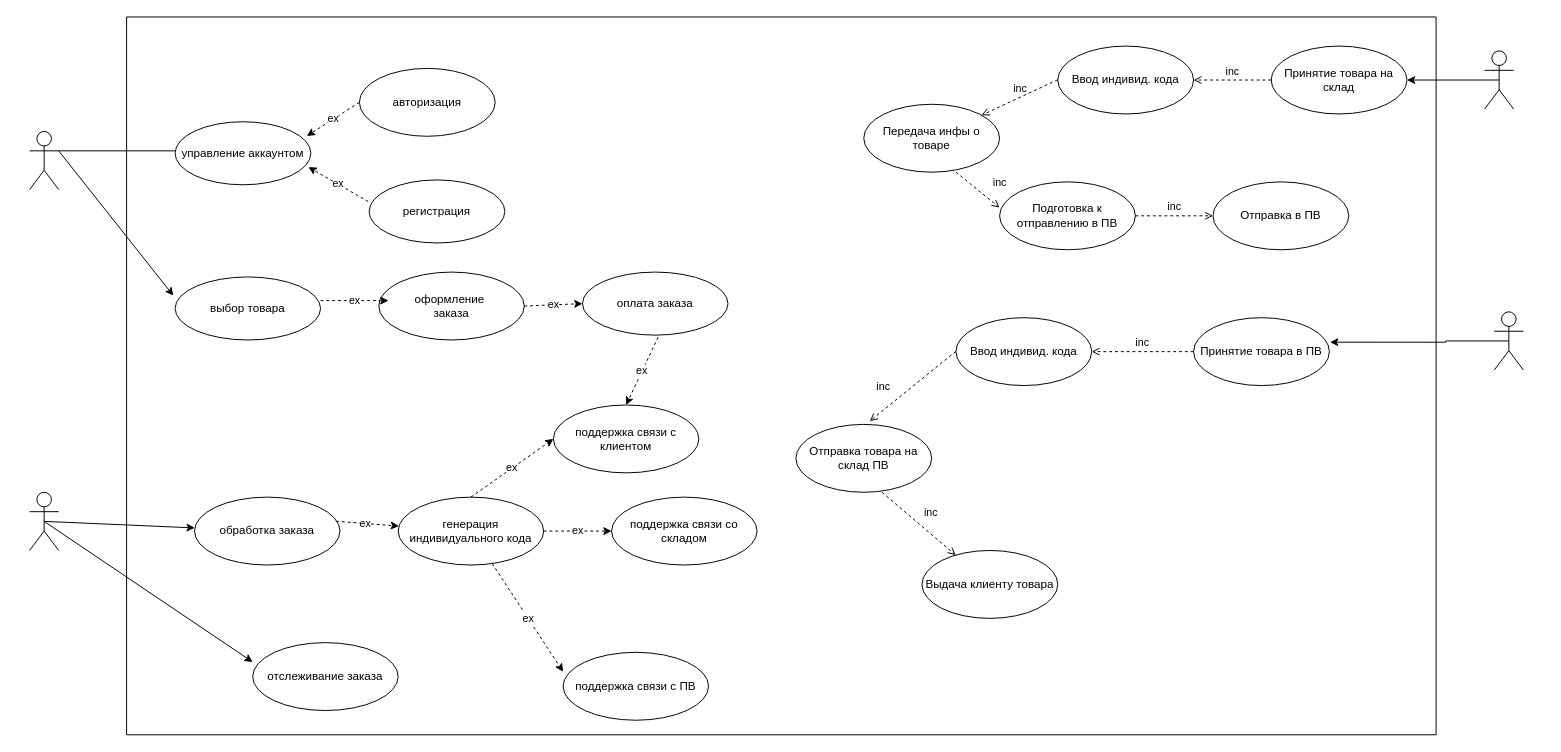
Image size: 1561x752. Some labels were removed from this diagram. The shapes that lost their labels are listed below. From the top down, each one's centre as x and y in pixels, then its label:
[1499,79]: Работник склада
[44,160]: клиент
[1508,340]: Работник ПВ
[44,520]: менеджер
